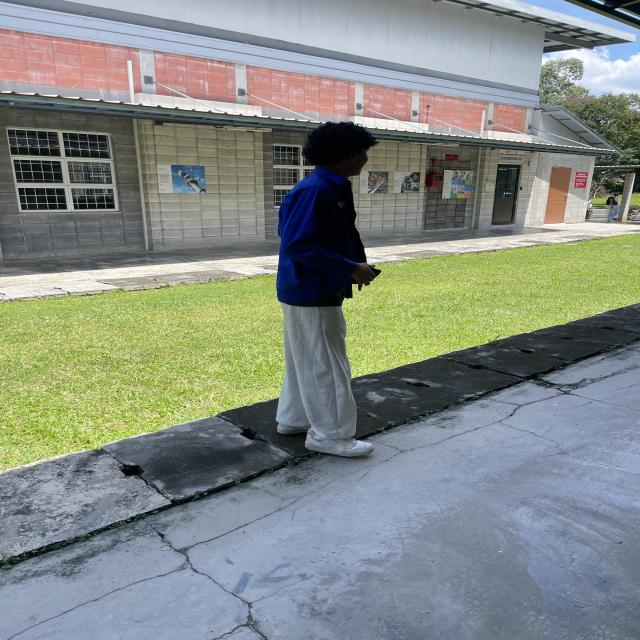person_with_labcoat: (276, 122, 380, 457)
